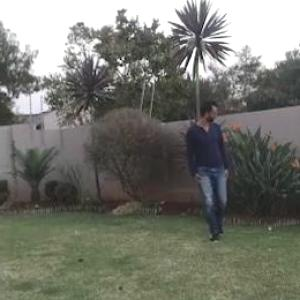follow: (184, 85, 238, 254)
